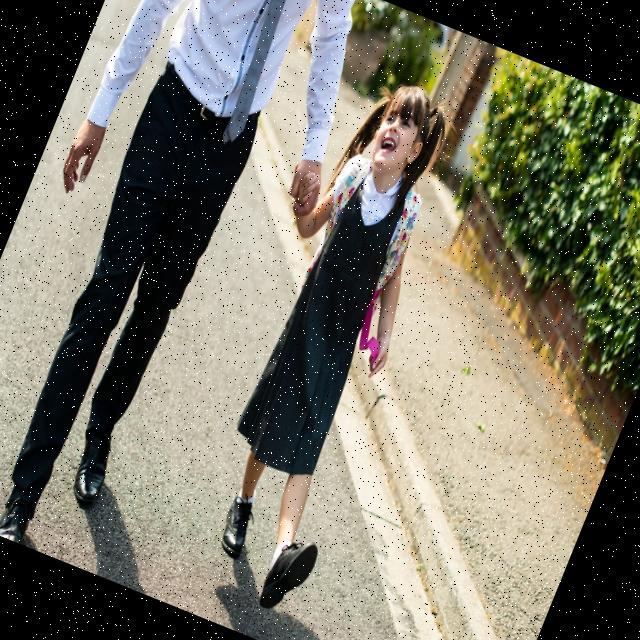Person: (0, 0, 395, 598), (148, 58, 494, 618)
